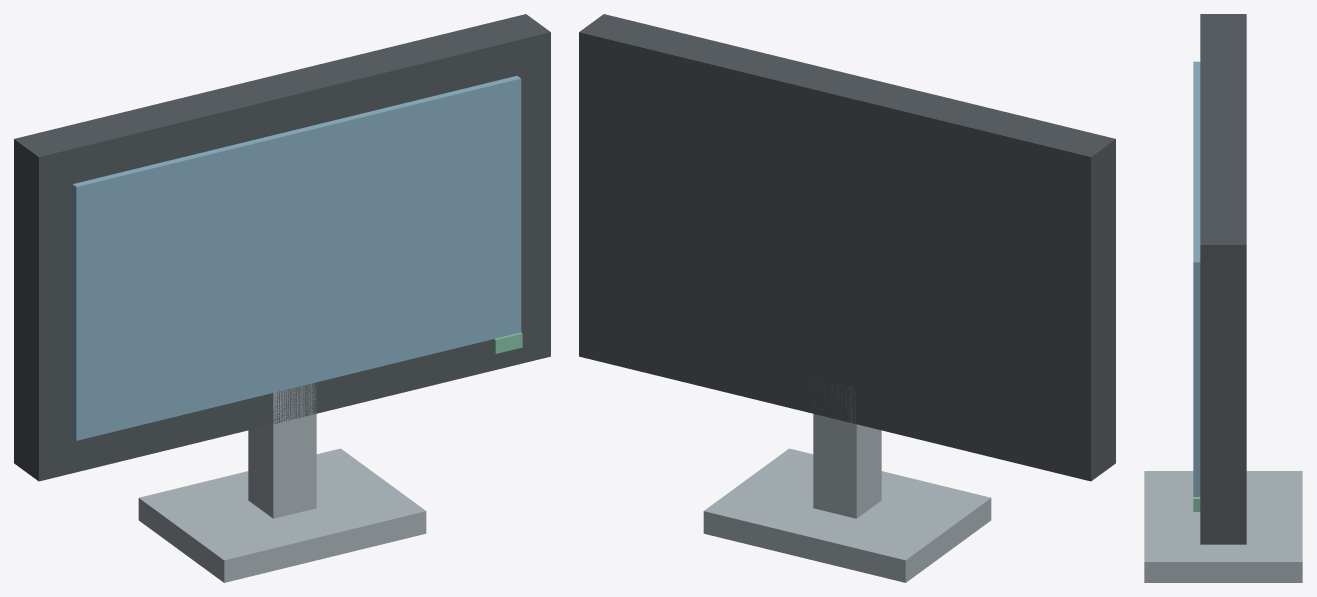
Rendered from monitor_lod1.glb.
3 renders of one model, left to right at view 1: azimuth 30°, elevation 25°; view 2: azimuth 150°, elevation 25°; view 3: azimuth 270°, elevation 25°, orthographic. The views are drawn at different scales.
Visible parts, largest first — view 1: monitor-node-3, monitor-node-0, monitor-node-2, monitor-node-1; view 2: monitor-node-0, monitor-node-2, monitor-node-1; view 3: monitor-node-0, monitor-node-2, monitor-node-3.
Boxes of the visible parts, bbox=[...] form: monitor-node-3: bbox=[72, 76, 521, 440]; monitor-node-0: bbox=[14, 14, 550, 481]; monitor-node-2: bbox=[138, 448, 426, 582]; monitor-node-1: bbox=[248, 383, 316, 518]; monitor-node-0: bbox=[579, 14, 1115, 481]; monitor-node-2: bbox=[703, 448, 991, 582]; monitor-node-1: bbox=[813, 384, 881, 518]; monitor-node-0: bbox=[1200, 14, 1246, 544]; monitor-node-2: bbox=[1144, 471, 1302, 582]; monitor-node-3: bbox=[1193, 61, 1200, 496].
Bounding box in the file's own units: 1.9 × 1.57 × 0.55.
